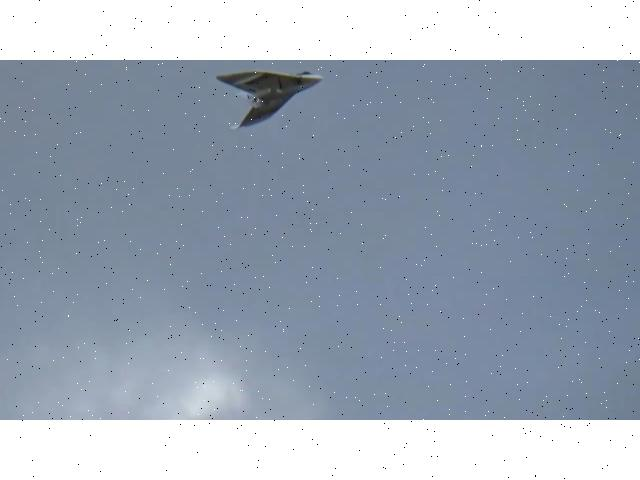Anti-Drone: (214, 68, 326, 130)
